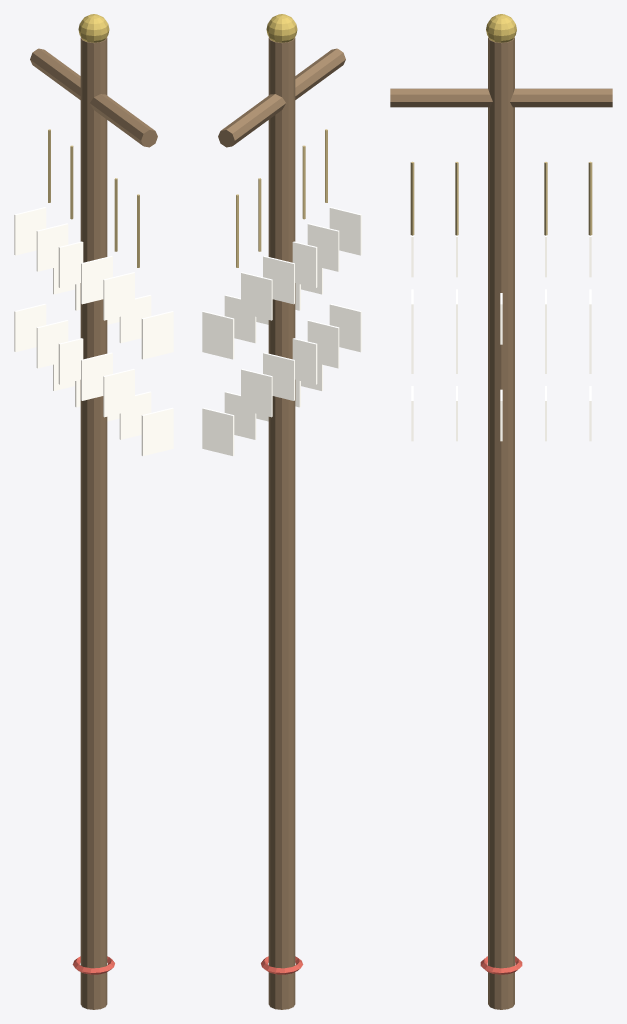
The model's file is shide_strips.glb.
3 renders of one model, left to right at view 1: azimuth 30°, elevation 25°; view 2: azimuth 150°, elevation 25°; view 3: azimuth 270°, elevation 25°, orthographic.
Parts seen in each view (by area): view 1: shide_strips; view 2: shide_strips; view 3: shide_strips.
Boxes of the visible parts, x1,y1,x2,y2 form: shide_strips: (14,14,173,1009); shide_strips: (202,14,361,1009); shide_strips: (390,14,612,1009).
Size of the model in its own units: 0.18 by 2.46 by 0.5.
